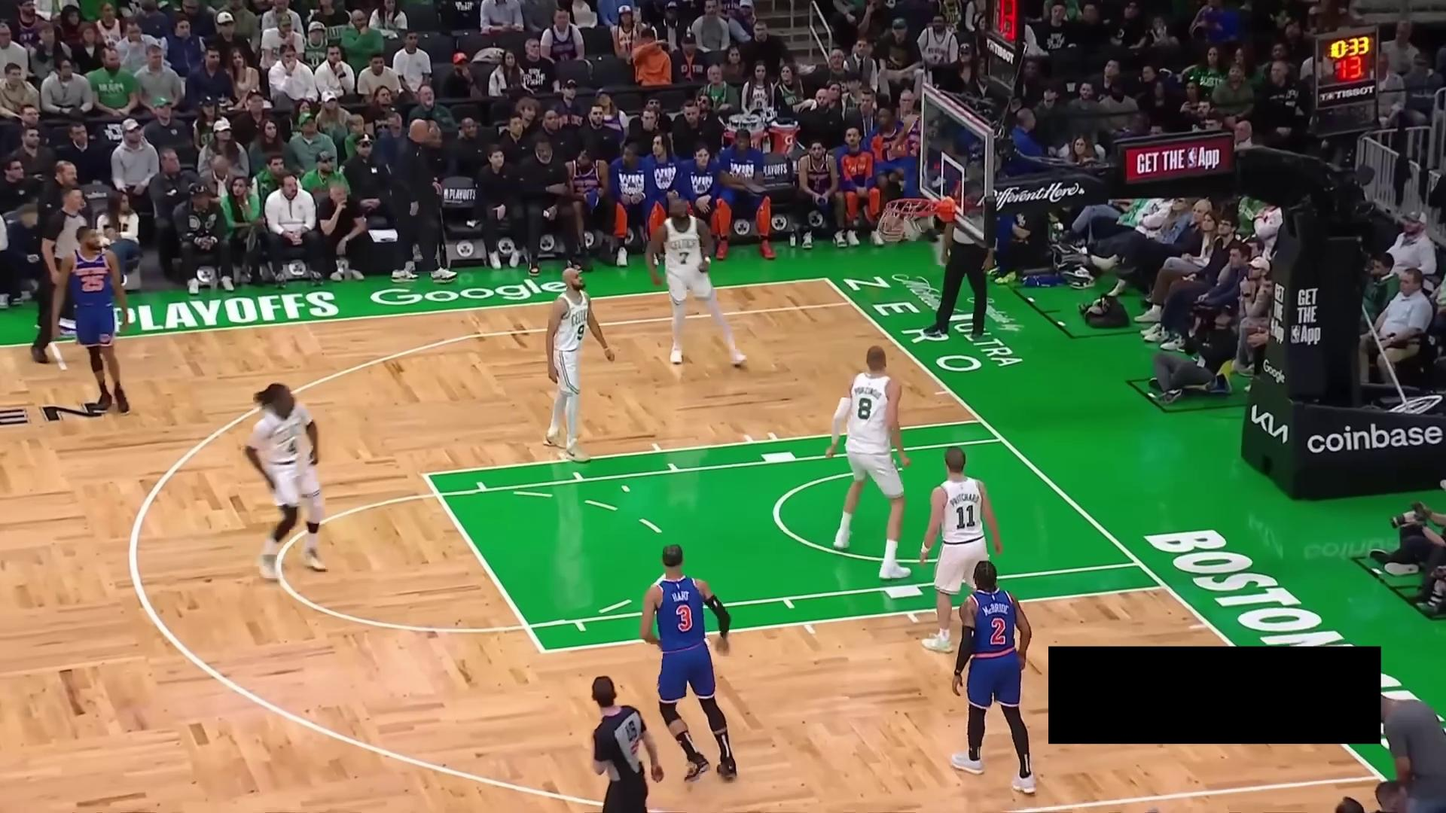ball: (878, 218, 905, 242)
ball-in-basket: (877, 196, 940, 243)
number: (953, 503, 974, 529), (674, 605, 693, 631), (82, 272, 105, 292), (990, 616, 1007, 643), (857, 397, 874, 421), (282, 435, 297, 455), (677, 249, 691, 266), (575, 323, 586, 342)
player: (640, 543, 737, 783), (949, 560, 1039, 797), (825, 344, 912, 580), (243, 381, 329, 582), (652, 203, 749, 368), (54, 222, 132, 418), (927, 445, 1000, 654), (543, 262, 615, 457)
referee: (29, 187, 96, 364), (924, 190, 995, 341), (588, 674, 663, 813)
rim: (884, 197, 940, 216)
